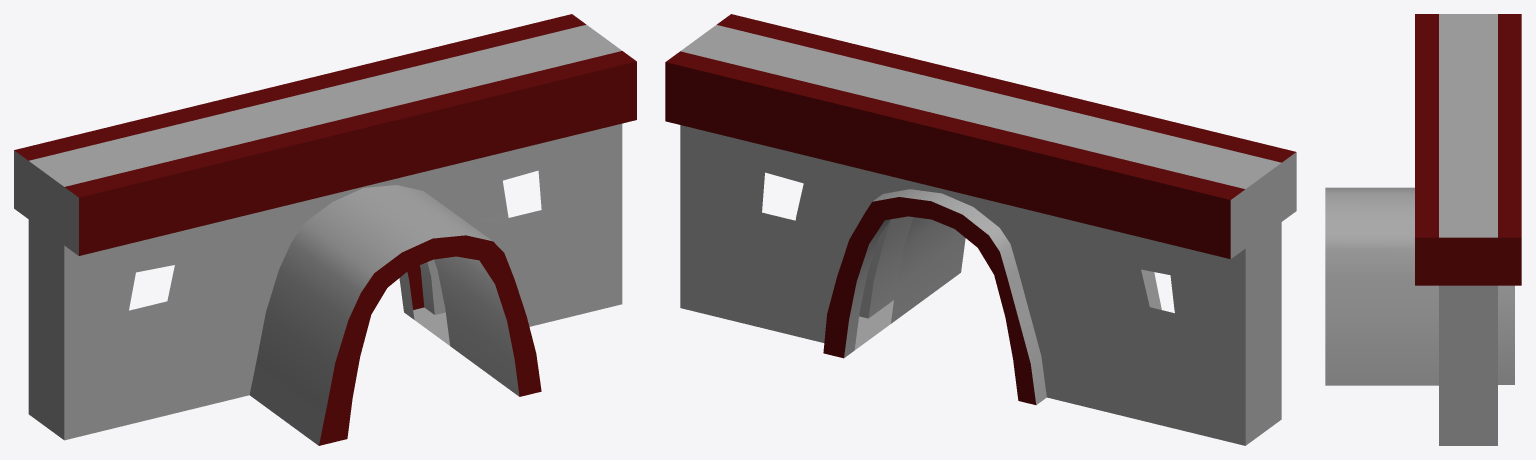
The model's file is Fort gate.fbx.
3 renders of one model, left to right at view 1: azimuth 30°, elevation 25°; view 2: azimuth 150°, elevation 25°; view 3: azimuth 270°, elevation 25°, orthographic. The views are drawn at different scales.
Visible parts, largest first — view 1: castle_Box101; view 2: castle_Box101; view 3: castle_Box101.
Boxes of the visible parts, bbox=[...] form: castle_Box101: bbox=[14, 14, 636, 445]; castle_Box101: bbox=[665, 14, 1296, 445]; castle_Box101: bbox=[1325, 14, 1521, 445].
Size of the model in its own units: 9.39 by 4.07 by 3.49.
